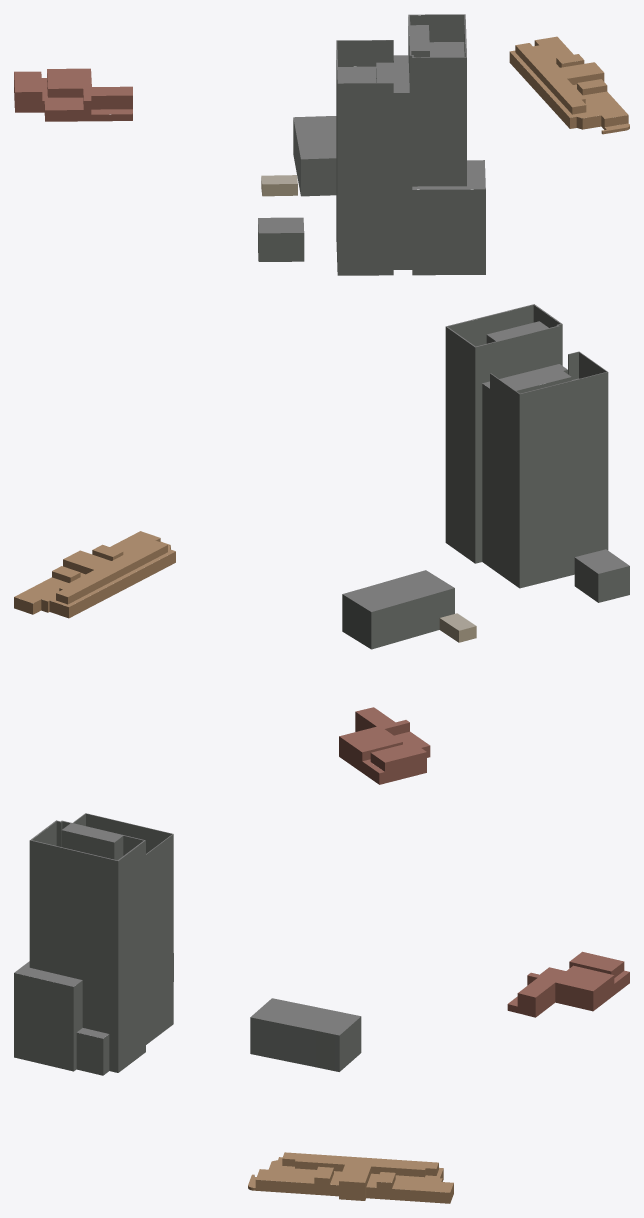
Rendered from tile-10_-6.glb.
The picture shows the model from 3 angles, top to bottom: view 1: azimuth 30°, elevation 25°; view 2: azimuth 150°, elevation 25°; view 3: azimuth 270°, elevation 25°; orthographic projection. The views are drawn at different scales.
Visible parts, largest first — view 1: wall, roof; view 2: wall, roof; view 3: wall, roof.
Part boxes in pixels (x1,y1,x2,y2): wall: (14, 15, 629, 275); roof: (14, 14, 629, 233); wall: (14, 305, 629, 784); roof: (14, 304, 629, 773); wall: (14, 814, 629, 1203); roof: (14, 813, 629, 1192).
Bounding box in the file's own units: 197 × 87.05 × 224.
